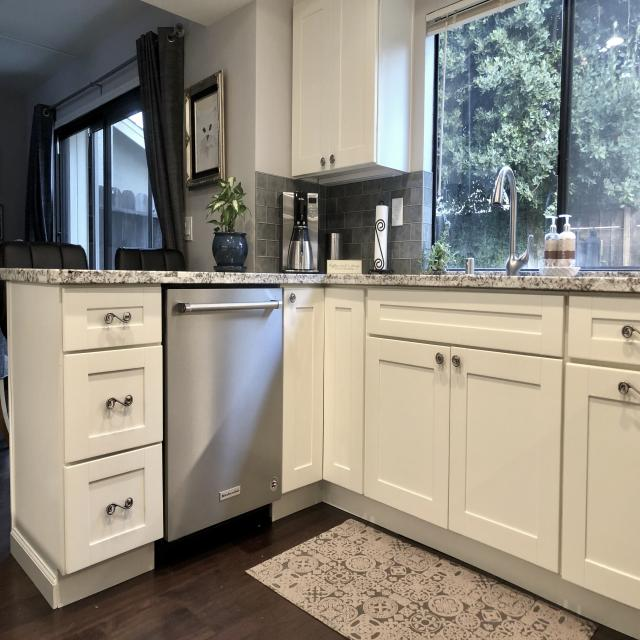dishwasher: (164, 268, 282, 549)
